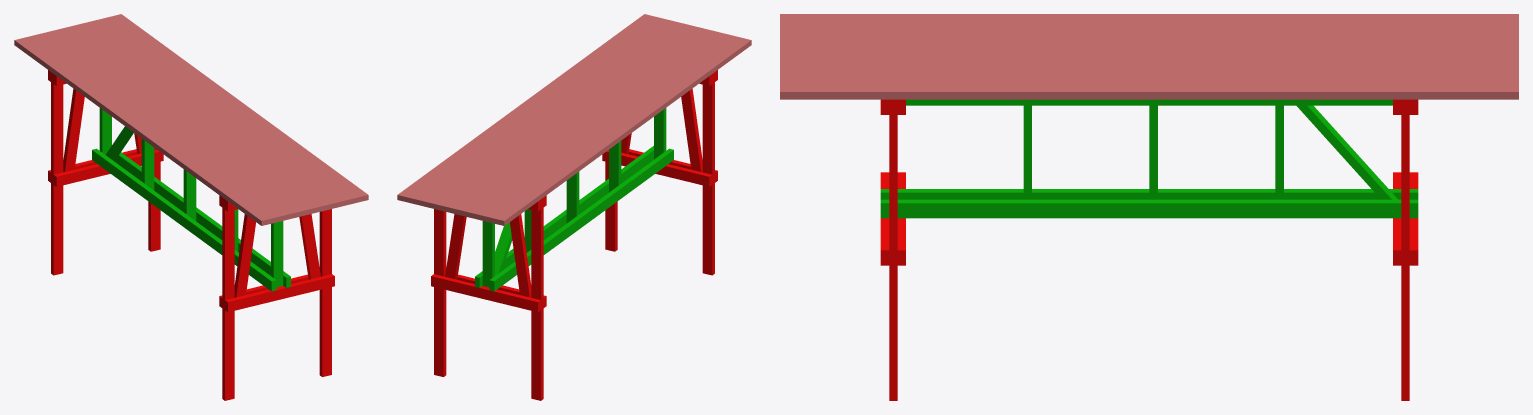
The model's file is result.glb.
3 views of the same model, side by side, from view 1: azimuth 30°, elevation 25°; view 2: azimuth 150°, elevation 25°; view 3: azimuth 270°, elevation 25° (orthographic). The views are drawn at different scales.
Parts seen in each view (by area): view 1: d8cbd844-e8e1-471b-ac7f-6a8fff197a95__Box, f5f33bf9-c29d-4b88-8df4-d91b2b09f023__undefined, 6412dd38-92e8-4838-9ddf-50f59bc18b9c__undefined, 7eb62abb-d604-4a61-b0e6-66ece2d548ac__undefined, c5f432d1-b15f-4838-91aa-1556737db183__undefined, 48aacb24-afe6-4184-8477-79fd6499d61d__undefined, c8dfe781-ec5f-40c7-a92c-b0be7f6d52fd__undefined, 6fec1fc7-cb7d-4f87-a873-5ac5dcf29480__undefined, 1f13329b-4a90-420b-979c-e4c2858427e2__undefined, d3884f9c-e1d1-4c64-ba30-cb517d67949a__undefined, 1b4ca4fa-8f02-482a-931c-a526babbdfdd__undefined, df4d0dcd-df8b-4486-94e8-622651137ed6__strutH (+15 smaller); view 2: d8cbd844-e8e1-471b-ac7f-6a8fff197a95__Box, f5f33bf9-c29d-4b88-8df4-d91b2b09f023__undefined, 6412dd38-92e8-4838-9ddf-50f59bc18b9c__undefined, 7eb62abb-d604-4a61-b0e6-66ece2d548ac__undefined, c5f432d1-b15f-4838-91aa-1556737db183__undefined, 48aacb24-afe6-4184-8477-79fd6499d61d__undefined, c8dfe781-ec5f-40c7-a92c-b0be7f6d52fd__undefined, 6fec1fc7-cb7d-4f87-a873-5ac5dcf29480__undefined, 1f13329b-4a90-420b-979c-e4c2858427e2__undefined, d3884f9c-e1d1-4c64-ba30-cb517d67949a__undefined, 1b4ca4fa-8f02-482a-931c-a526babbdfdd__undefined, df4d0dcd-df8b-4486-94e8-622651137ed6__strutH (+16 smaller); view 3: 1b4ca4fa-8f02-482a-931c-a526babbdfdd__undefined, ff8cf865-28c0-4073-8c8f-42f4cbd37b87__strutH, c5f432d1-b15f-4838-91aa-1556737db183__undefined, 48aacb24-afe6-4184-8477-79fd6499d61d__undefined, f5f33bf9-c29d-4b88-8df4-d91b2b09f023__undefined, 6412dd38-92e8-4838-9ddf-50f59bc18b9c__undefined, 1f13329b-4a90-420b-979c-e4c2858427e2__undefined, c8dfe781-ec5f-40c7-a92c-b0be7f6d52fd__undefined, 7eb62abb-d604-4a61-b0e6-66ece2d548ac__undefined, d3884f9c-e1d1-4c64-ba30-cb517d67949a__undefined, df4d0dcd-df8b-4486-94e8-622651137ed6__strutH, d8cbd844-e8e1-471b-ac7f-6a8fff197a95__Box (+10 smaller).
Boxes of the visible parts, x1,y1,x2,y2 form: d8cbd844-e8e1-471b-ac7f-6a8fff197a95__Box: (14, 38, 271, 225); f5f33bf9-c29d-4b88-8df4-d91b2b09f023__undefined: (44, 30, 300, 218); 6412dd38-92e8-4838-9ddf-50f59bc18b9c__undefined: (53, 28, 310, 216); 7eb62abb-d604-4a61-b0e6-66ece2d548ac__undefined: (83, 21, 339, 209); c5f432d1-b15f-4838-91aa-1556737db183__undefined: (24, 35, 280, 223); 48aacb24-afe6-4184-8477-79fd6499d61d__undefined: (34, 33, 290, 221); c8dfe781-ec5f-40c7-a92c-b0be7f6d52fd__undefined: (73, 23, 329, 211); 6fec1fc7-cb7d-4f87-a873-5ac5dcf29480__undefined: (102, 16, 358, 204); 1f13329b-4a90-420b-979c-e4c2858427e2__undefined: (63, 26, 319, 213); d3884f9c-e1d1-4c64-ba30-cb517d67949a__undefined: (92, 19, 348, 206); 1b4ca4fa-8f02-482a-931c-a526babbdfdd__undefined: (112, 14, 368, 202); df4d0dcd-df8b-4486-94e8-622651137ed6__strutH: (92, 148, 276, 291); d8cbd844-e8e1-471b-ac7f-6a8fff197a95__Box: (494, 38, 751, 225); f5f33bf9-c29d-4b88-8df4-d91b2b09f023__undefined: (465, 30, 721, 218); 6412dd38-92e8-4838-9ddf-50f59bc18b9c__undefined: (455, 28, 712, 216); 7eb62abb-d604-4a61-b0e6-66ece2d548ac__undefined: (426, 21, 682, 209); c5f432d1-b15f-4838-91aa-1556737db183__undefined: (485, 35, 741, 223); 48aacb24-afe6-4184-8477-79fd6499d61d__undefined: (475, 33, 731, 221); c8dfe781-ec5f-40c7-a92c-b0be7f6d52fd__undefined: (436, 23, 692, 211); 6fec1fc7-cb7d-4f87-a873-5ac5dcf29480__undefined: (407, 16, 663, 204); 1f13329b-4a90-420b-979c-e4c2858427e2__undefined: (446, 26, 702, 213); d3884f9c-e1d1-4c64-ba30-cb517d67949a__undefined: (417, 19, 673, 206); 1b4ca4fa-8f02-482a-931c-a526babbdfdd__undefined: (397, 14, 653, 202); df4d0dcd-df8b-4486-94e8-622651137ed6__strutH: (489, 148, 673, 291); 1b4ca4fa-8f02-482a-931c-a526babbdfdd__undefined: (780, 85, 1518, 99); ff8cf865-28c0-4073-8c8f-42f4cbd37b87__strutH: (880, 199, 1418, 218); c5f432d1-b15f-4838-91aa-1556737db183__undefined: (780, 21, 1518, 28); 48aacb24-afe6-4184-8477-79fd6499d61d__undefined: (780, 28, 1518, 35); f5f33bf9-c29d-4b88-8df4-d91b2b09f023__undefined: (780, 35, 1518, 42); 6412dd38-92e8-4838-9ddf-50f59bc18b9c__undefined: (780, 42, 1518, 49); 1f13329b-4a90-420b-979c-e4c2858427e2__undefined: (780, 49, 1518, 56); c8dfe781-ec5f-40c7-a92c-b0be7f6d52fd__undefined: (780, 56, 1518, 63); 7eb62abb-d604-4a61-b0e6-66ece2d548ac__undefined: (780, 63, 1518, 70); d3884f9c-e1d1-4c64-ba30-cb517d67949a__undefined: (780, 70, 1518, 77); df4d0dcd-df8b-4486-94e8-622651137ed6__strutH: (880, 189, 1418, 199); d8cbd844-e8e1-471b-ac7f-6a8fff197a95__Box: (780, 14, 1518, 20).
Bounding box in the file's own units: 550 × 1015 × 2200.
